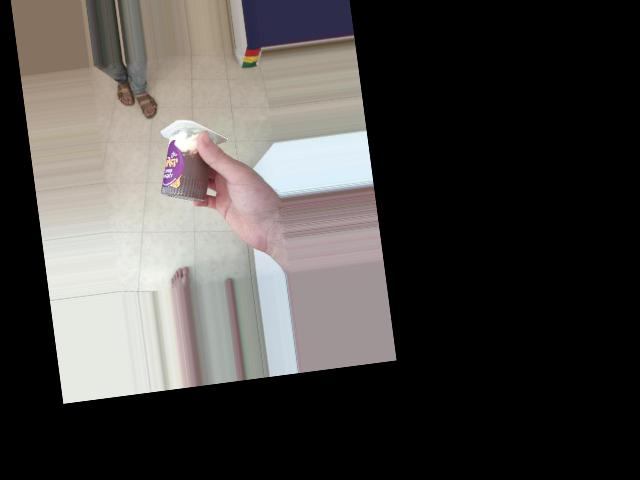milky: (153, 120, 218, 204)
